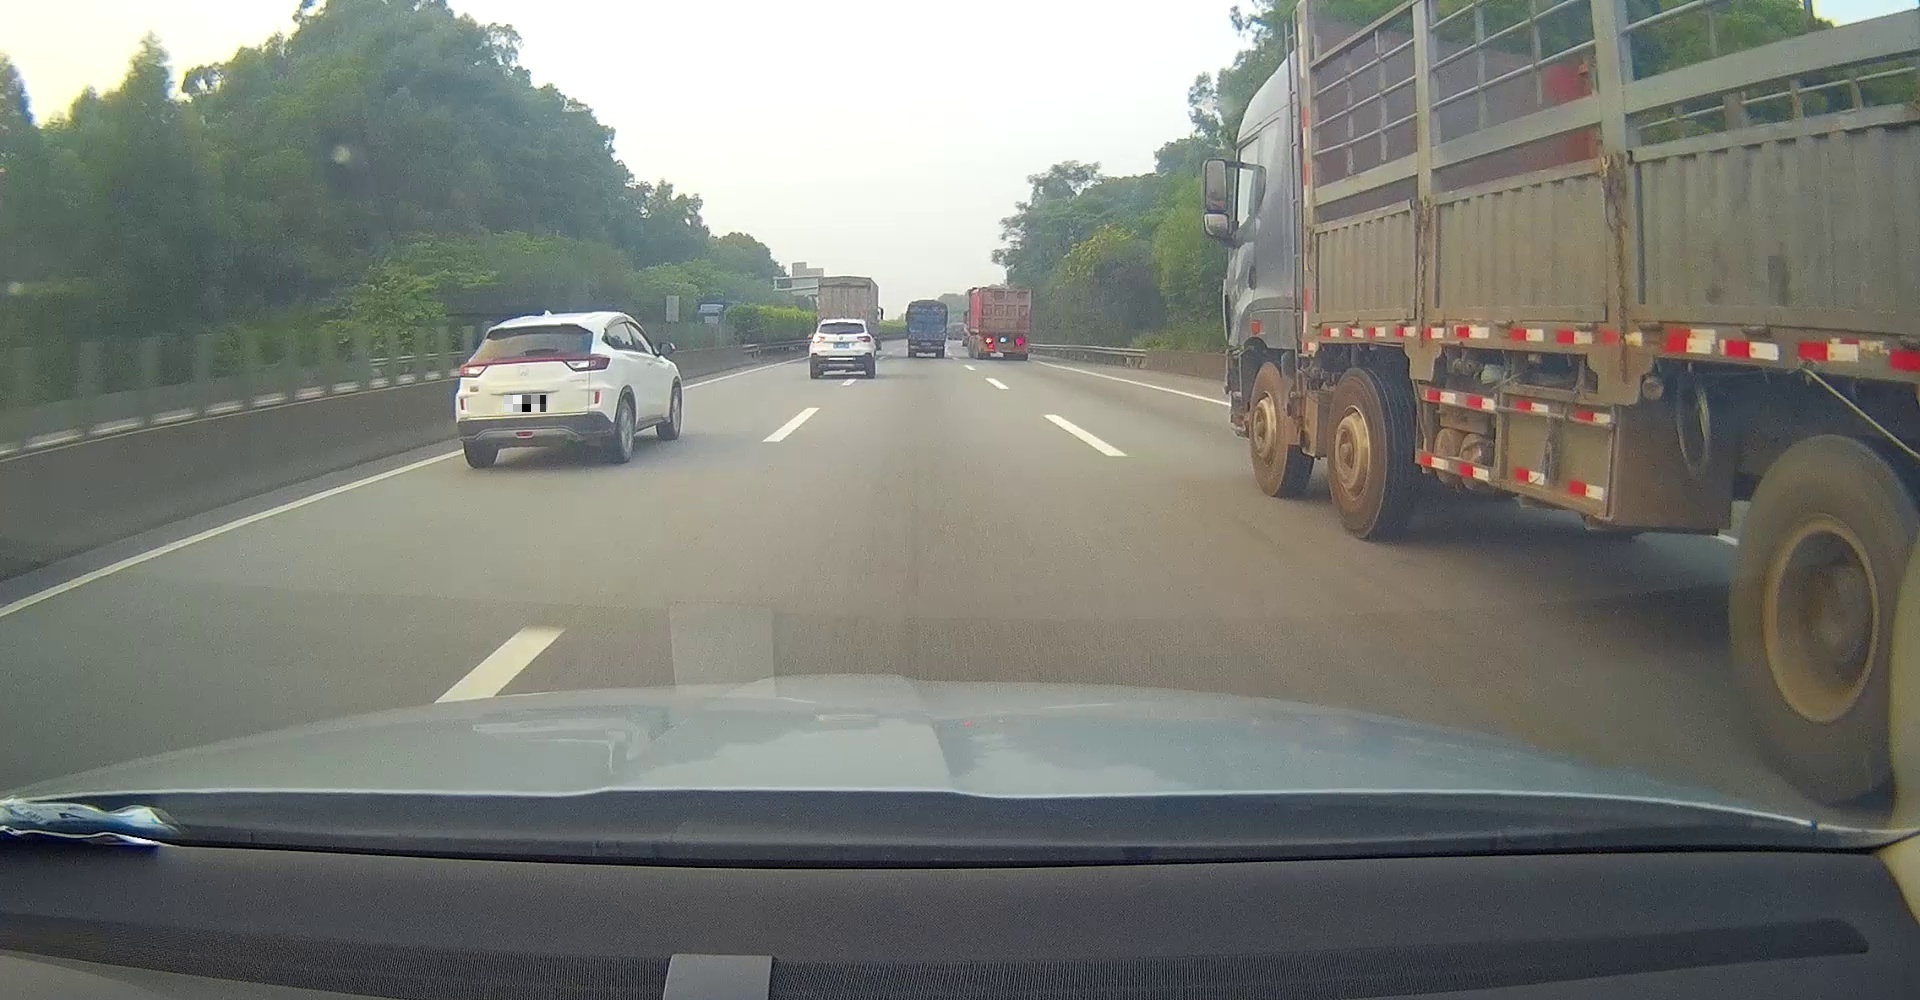L_light: (458, 360, 490, 378), (811, 336, 825, 343), (984, 338, 993, 343), (910, 346, 916, 349)
R_light: (563, 355, 610, 371), (858, 336, 871, 343), (1015, 339, 1023, 344), (937, 346, 943, 349)
T_light: (522, 325, 547, 331), (836, 322, 848, 326), (1001, 291, 1011, 294), (923, 305, 932, 308)
day-brake: (977, 287, 1031, 360)
day-left: (809, 319, 874, 379)
day-no: (453, 315, 615, 467), (907, 299, 947, 359)
plate_1: (504, 395, 546, 412)
